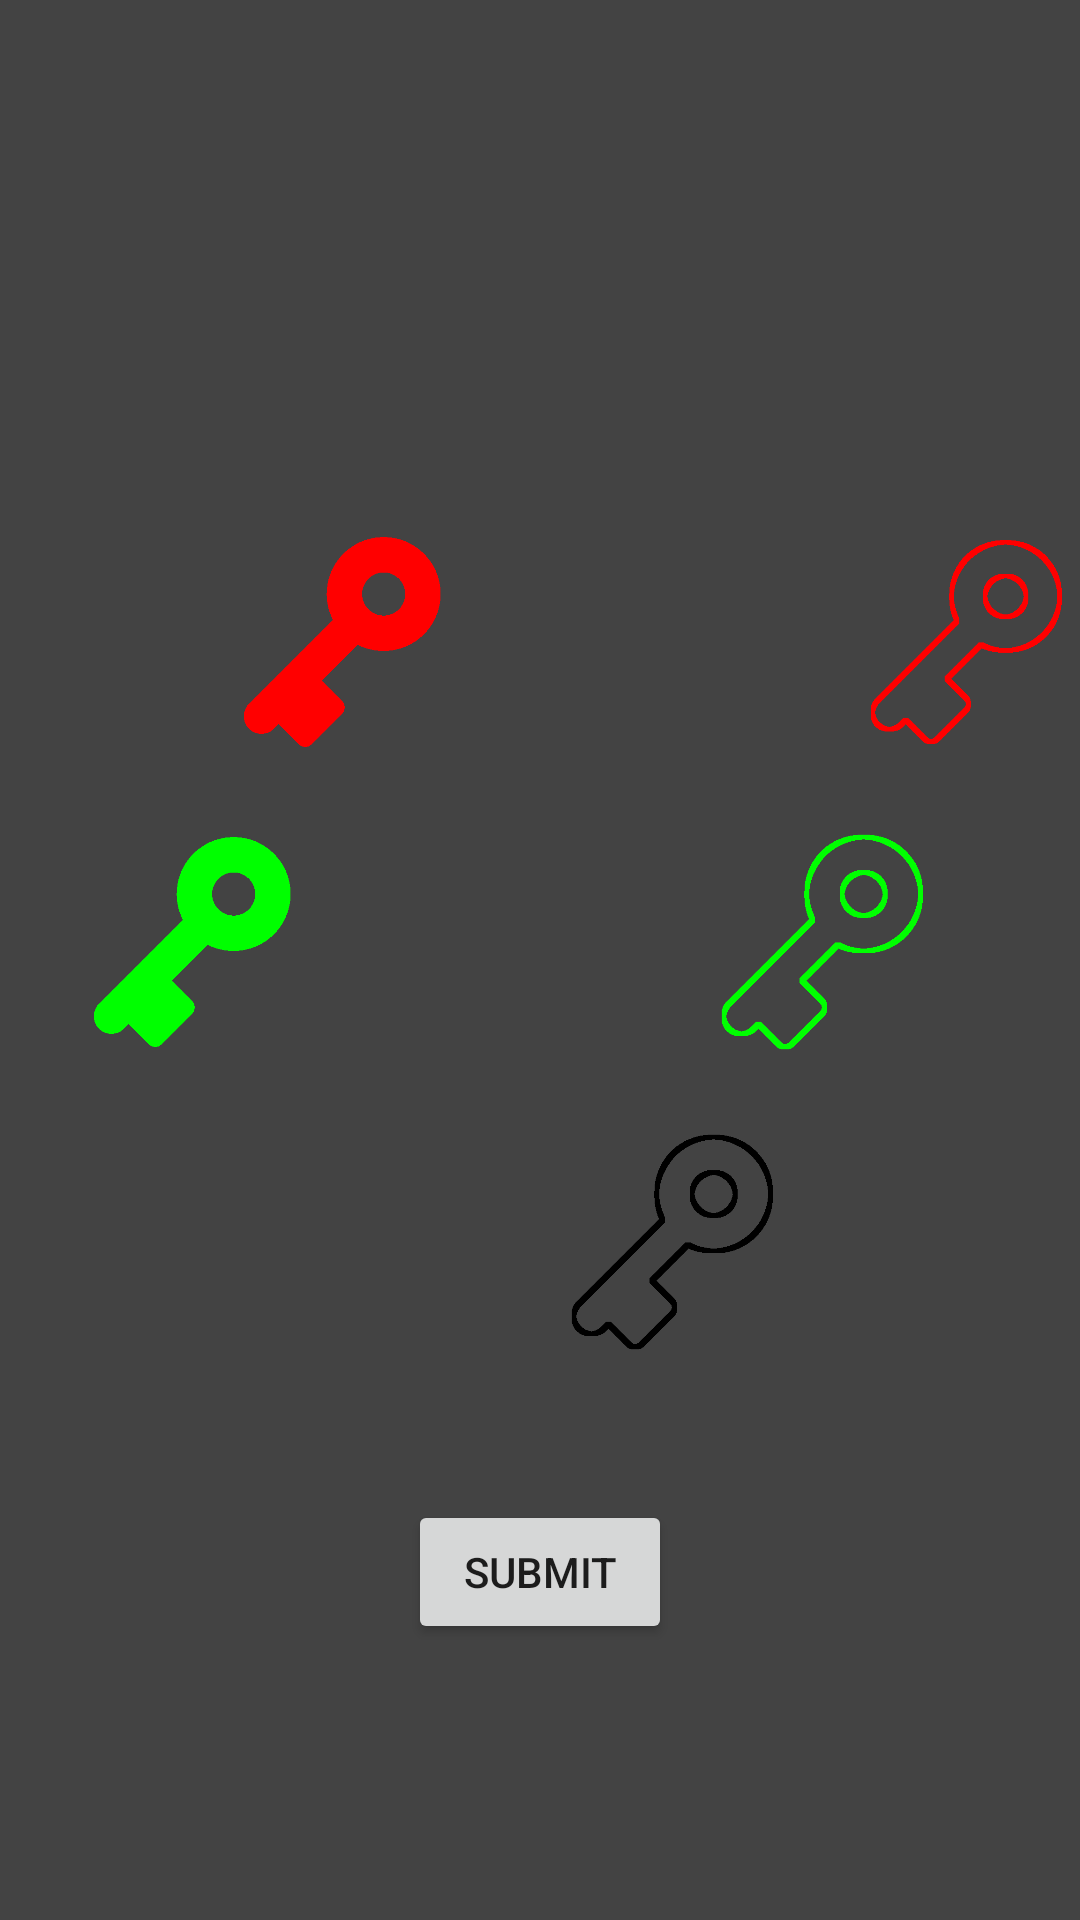

Screen size 1080 x 1920. Icon name, then its box in pixels as bbox=[x1, y1, x2, y2]:
keybo: bbox=[572, 1135, 773, 1349]
keyg: bbox=[94, 837, 291, 1047]
keygo: bbox=[722, 834, 923, 1050]
keyr: bbox=[244, 537, 441, 747]
keyro: bbox=[871, 540, 1062, 744]
